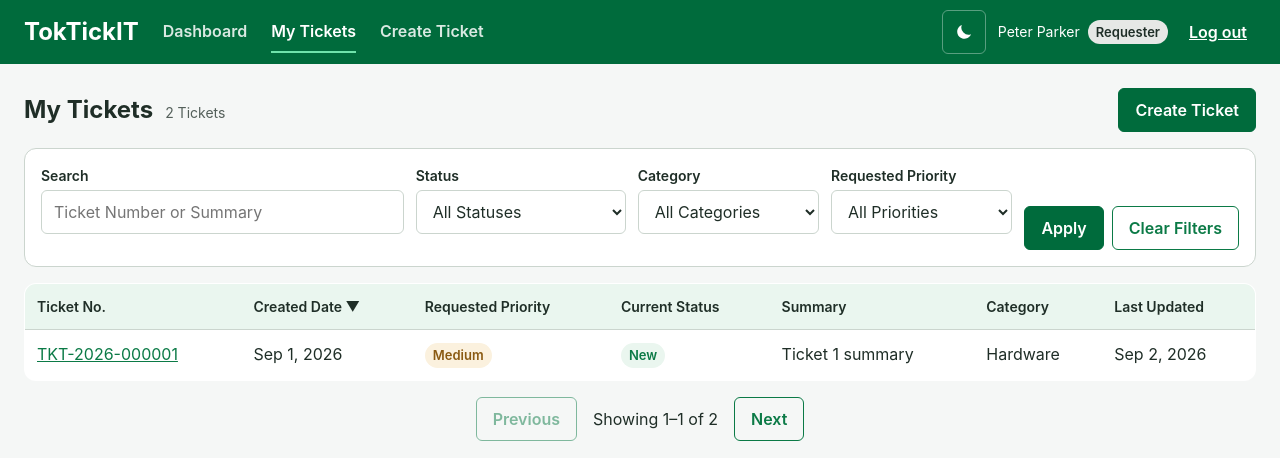
it: My Tickets › UI-11 (AC-15): pages forward without repeating rows
Expected: the link "TKT-2026-000001" is shown, [37, 344, 178, 364]
Expected: the text "Showing 1–1 of 2" is shown, [593, 407, 718, 431]
Click the button "Next".
click(769, 419)  # box [734, 397, 804, 441]
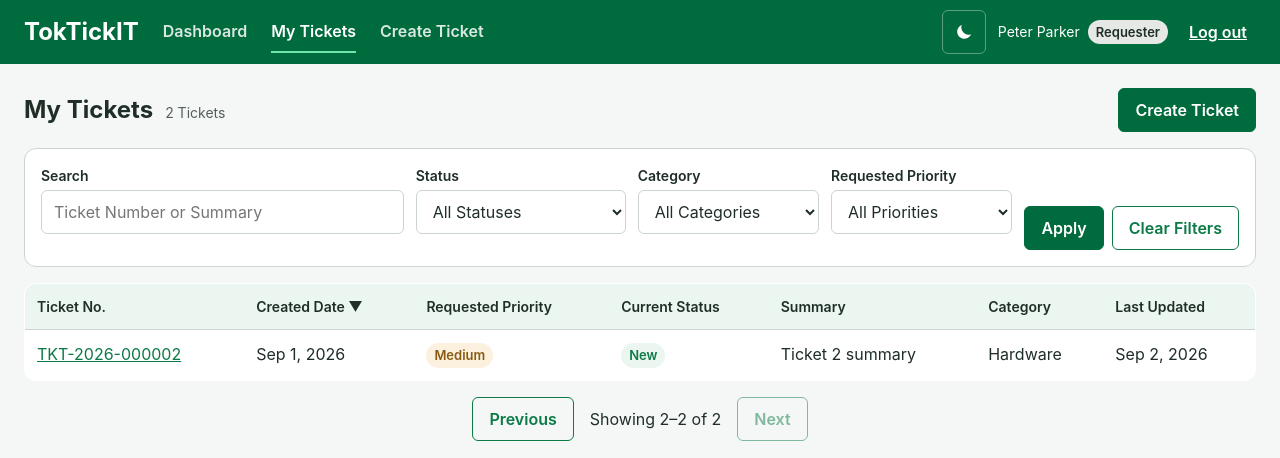
Result: the link "TKT-2026-000002" is shown at [37, 344, 181, 364]
Result: the link "TKT-2026-000001" is gone
